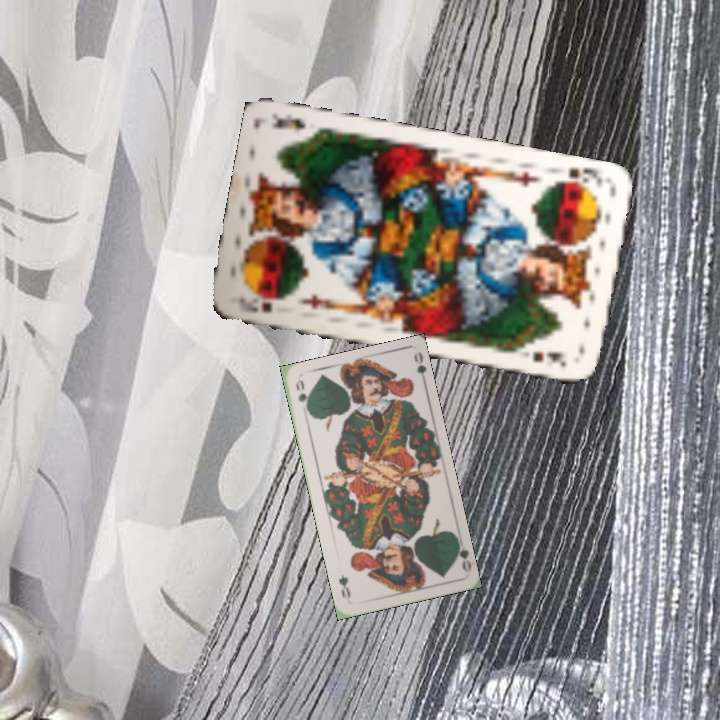GO: (451, 534, 473, 574), (291, 377, 313, 416)
SK: (552, 164, 605, 193), (235, 292, 288, 316)
